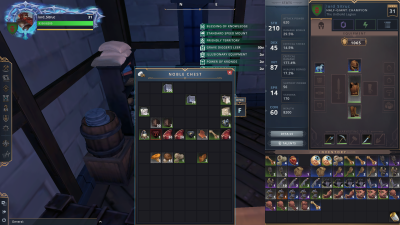granite stone: (162, 83, 174, 94), (186, 95, 197, 105)
limestone stone: (221, 95, 231, 105)
marble stone: (139, 105, 151, 117)
slate stone: (150, 117, 162, 129), (162, 117, 173, 128)
tin ore: (220, 117, 232, 129)
travertine stone: (220, 106, 232, 117)
